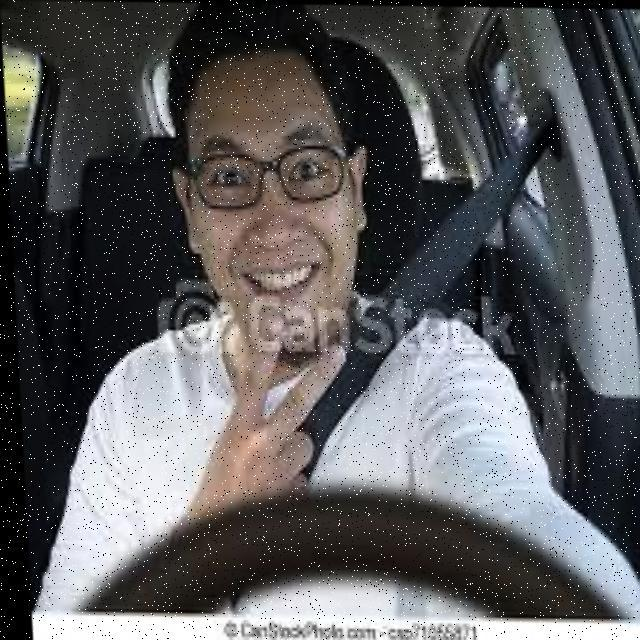seatbelt: (95, 222, 538, 532)
